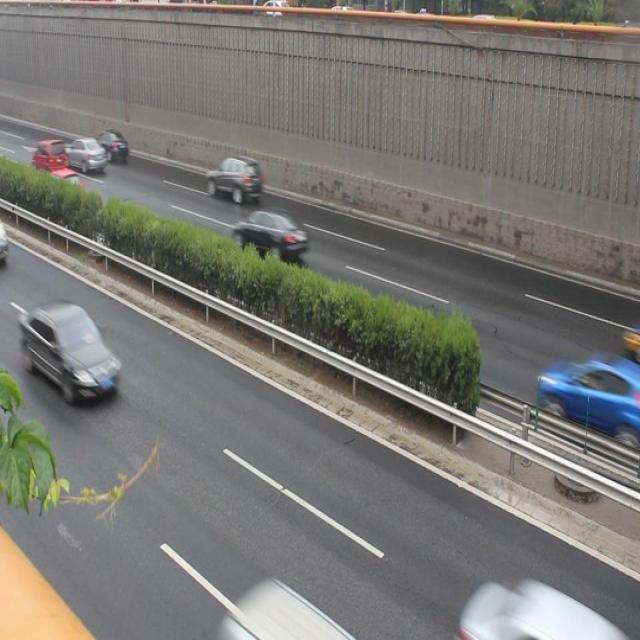car: (21, 301, 119, 404), (535, 352, 624, 442), (230, 209, 308, 262), (206, 153, 262, 204), (38, 167, 82, 209), (65, 134, 106, 172), (92, 130, 130, 162)
